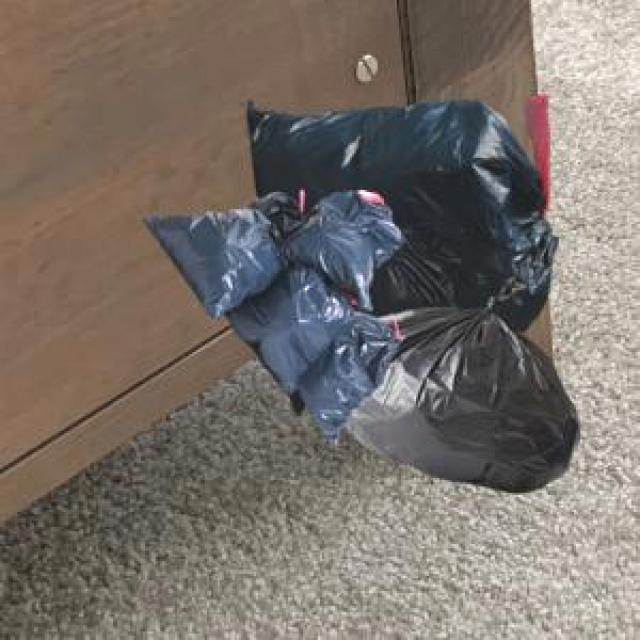Trashbag: (383, 316, 578, 480), (169, 200, 273, 300), (296, 184, 393, 288), (249, 274, 336, 374), (317, 325, 390, 442)
